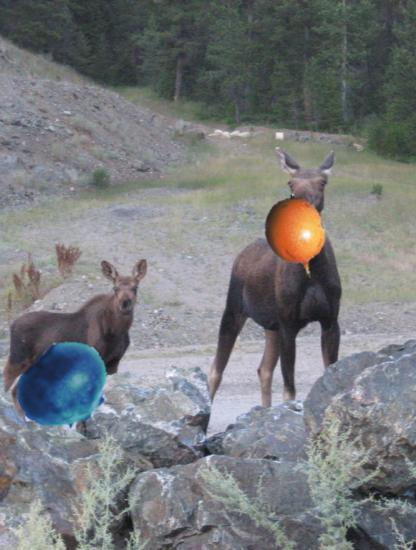Granadilla: (254, 195, 340, 281)
Huckleberry: (17, 339, 113, 435)
